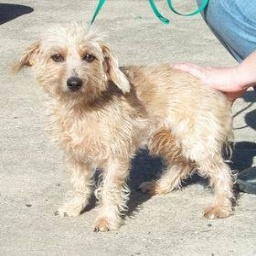dog: (9, 24, 238, 231)
